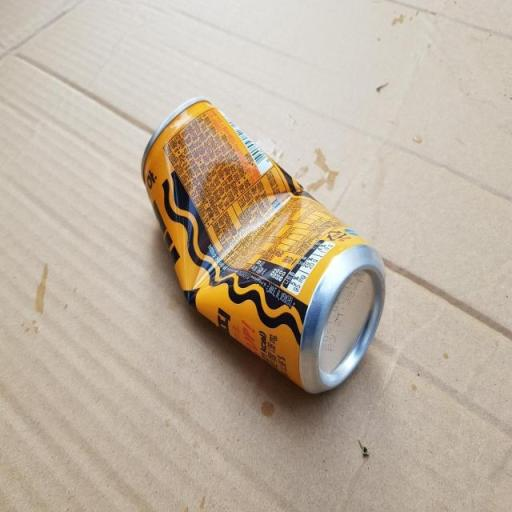metal: (109, 71, 409, 429)
